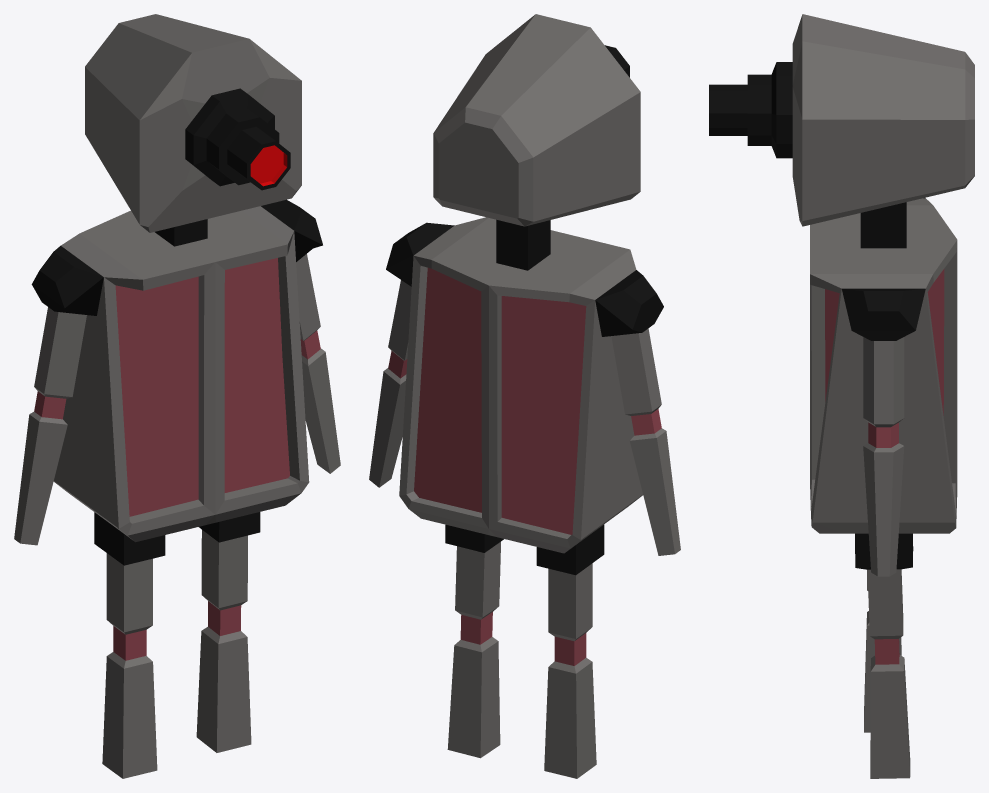
Rendered from CamBot.fbx.
3 renders of one model, left to right at view 1: azimuth 30°, elevation 25°; view 2: azimuth 150°, elevation 25°; view 3: azimuth 270°, elevation 25°, orthographic. The views are drawn at different scales.
Parts seen in each view (by area): view 1: Cube.003; view 2: Cube.003; view 3: Cube.003.
Boxes of the visible parts, box(x1,y1,x2,y2) form: Cube.003: box(14, 14, 340, 778); Cube.003: box(369, 14, 680, 778); Cube.003: box(709, 14, 974, 778).
Size of the model in its own units: 455 by 1005 by 336.
